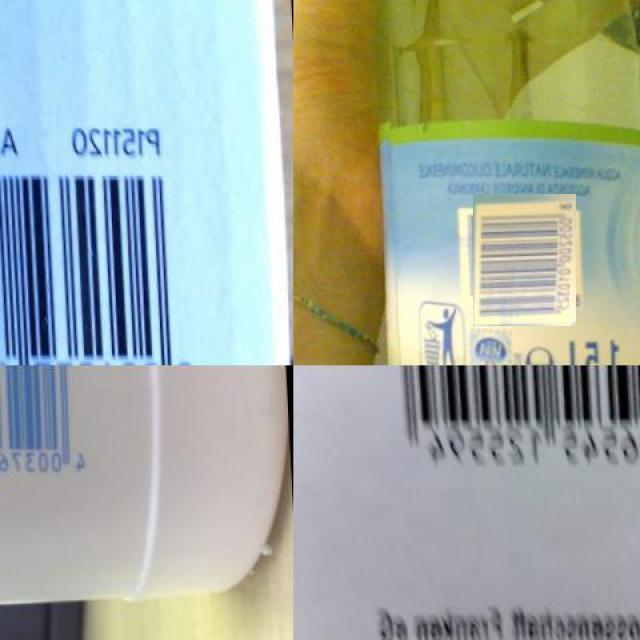Barcode: (0, 163, 211, 365), (381, 366, 640, 494), (466, 200, 584, 318), (0, 365, 103, 499)
